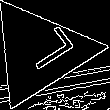L_SW: (8, 25, 72, 79)
